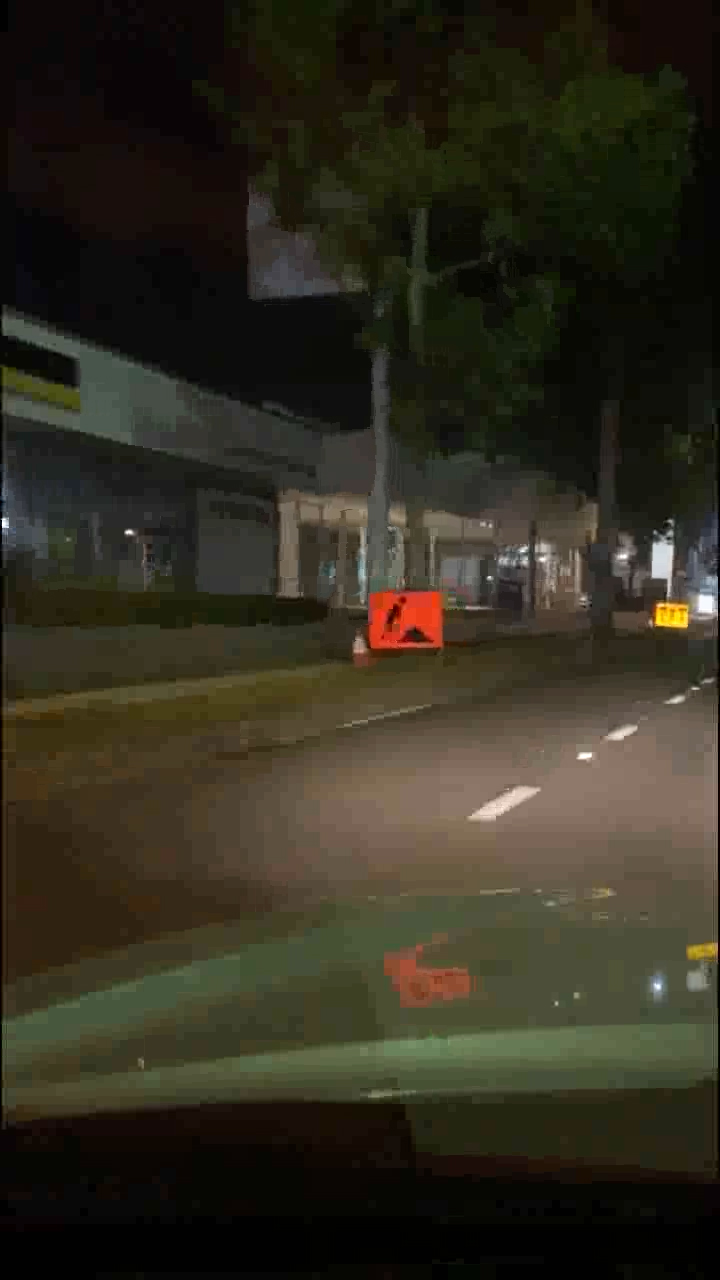road works sign board: (365, 588, 445, 652), (654, 600, 689, 633)
